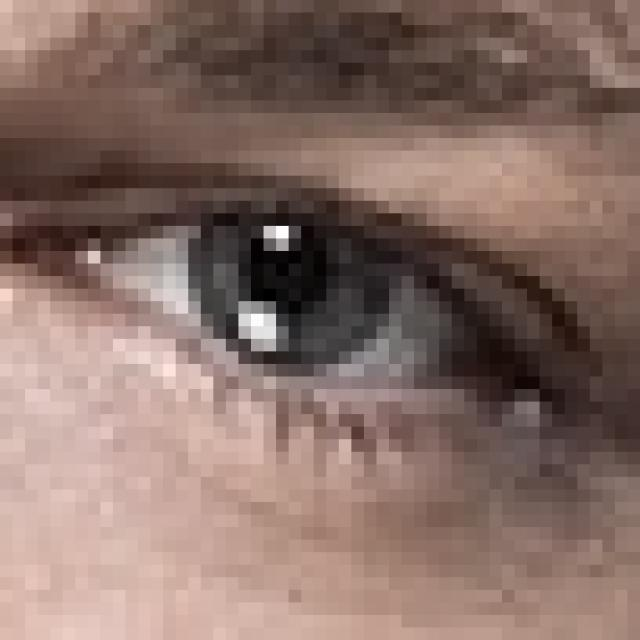eye: (0, 126, 640, 490)
gaze: (187, 201, 408, 365)
